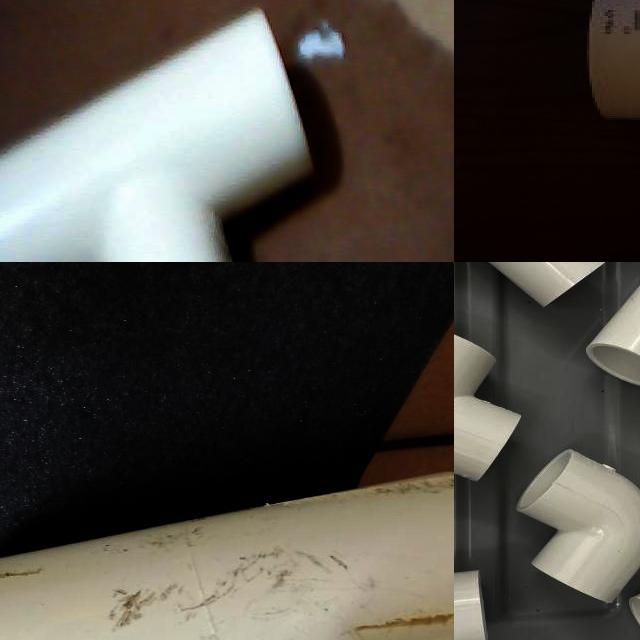Defective: (366, 476, 454, 500), (0, 571, 42, 587)
L Joint: (516, 450, 640, 607)
T Joint: (0, 9, 316, 262), (0, 472, 454, 640), (454, 333, 520, 484)
